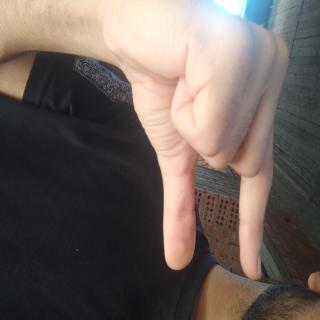DELL: (0, 33, 213, 307)
